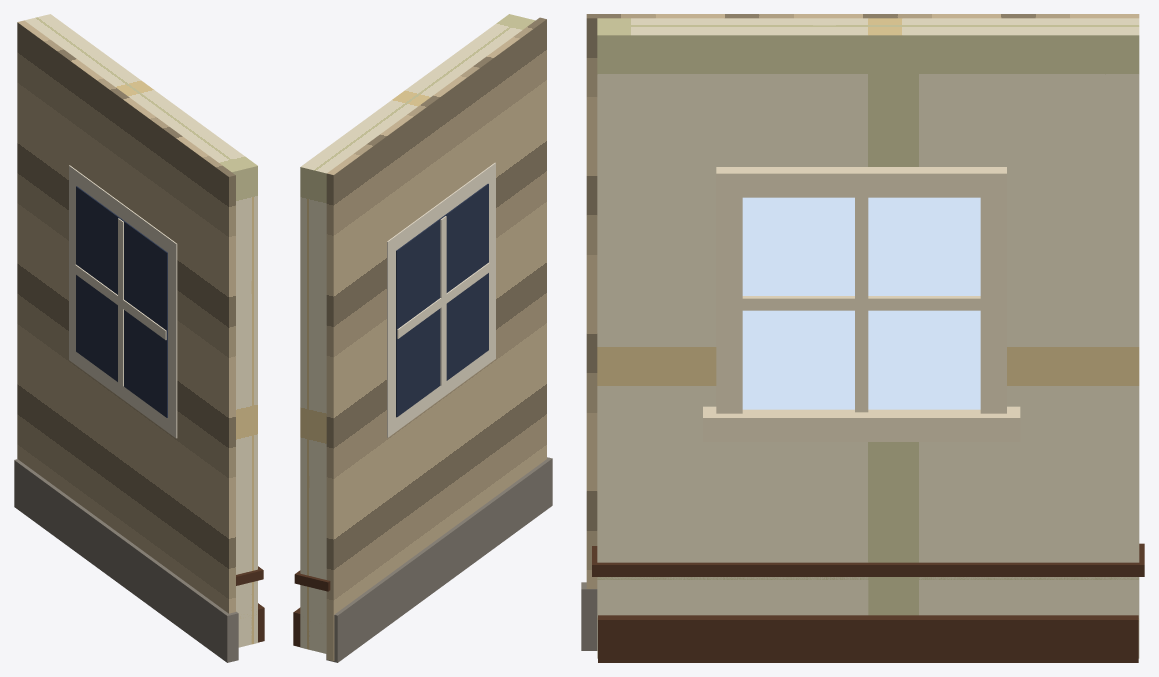
The model's file is kit_west.glb.
The picture shows the model from 3 angles, left to right: view 1: azimuth 30°, elevation 25°; view 2: azimuth 150°, elevation 25°; view 3: azimuth 270°, elevation 25°; orthographic projection. The views are drawn at different scales.
Parts seen in each view (by area): view 1: Box14, Box1, Box11, Box15, Box10, Box13, Box12; view 2: Box14, Box1, Box11, Box15, Box10, Box12, Box13, Box17; view 3: Box1, Box7, Box2, Box16, Box4, Box14, Box3, Box17, Box5, Box6, Box9, Box8 (+1 smaller).
Part boxes in pixels (bbox=[...]): Box14: bbox=[17, 20, 235, 613]; Box1: bbox=[24, 14, 257, 647]; Box11: bbox=[76, 186, 167, 417]; Box15: bbox=[14, 459, 238, 662]; Box10: bbox=[69, 165, 177, 438]; Box13: bbox=[75, 264, 166, 339]; Box12: bbox=[118, 218, 123, 386]; Box14: bbox=[326, 17, 546, 661]; Box1: bbox=[300, 14, 535, 653]; Box11: bbox=[396, 183, 488, 417]; Box15: bbox=[326, 457, 552, 662]; Box10: bbox=[387, 162, 495, 437]; Box12: bbox=[440, 216, 446, 385]; Box13: bbox=[397, 262, 489, 338]; Box17: bbox=[294, 570, 330, 591]; Box1: bbox=[597, 18, 1139, 658]; Box7: bbox=[742, 197, 980, 409]; Box2: bbox=[598, 615, 1138, 662]; Box16: bbox=[597, 577, 1139, 658]; Box4: bbox=[703, 406, 1020, 441]; Box14: bbox=[586, 14, 1139, 588]; Box3: bbox=[716, 167, 1006, 197]; Box17: bbox=[592, 543, 1144, 576]; Box5: bbox=[716, 197, 742, 413]; Box6: bbox=[980, 197, 1006, 413]; Box9: bbox=[742, 296, 980, 310]; Box8: bbox=[855, 197, 868, 412].
Size of the model in its own units: 0.31 by 2.64 by 2.13.
Materials: 8 (2 with a texture image).
